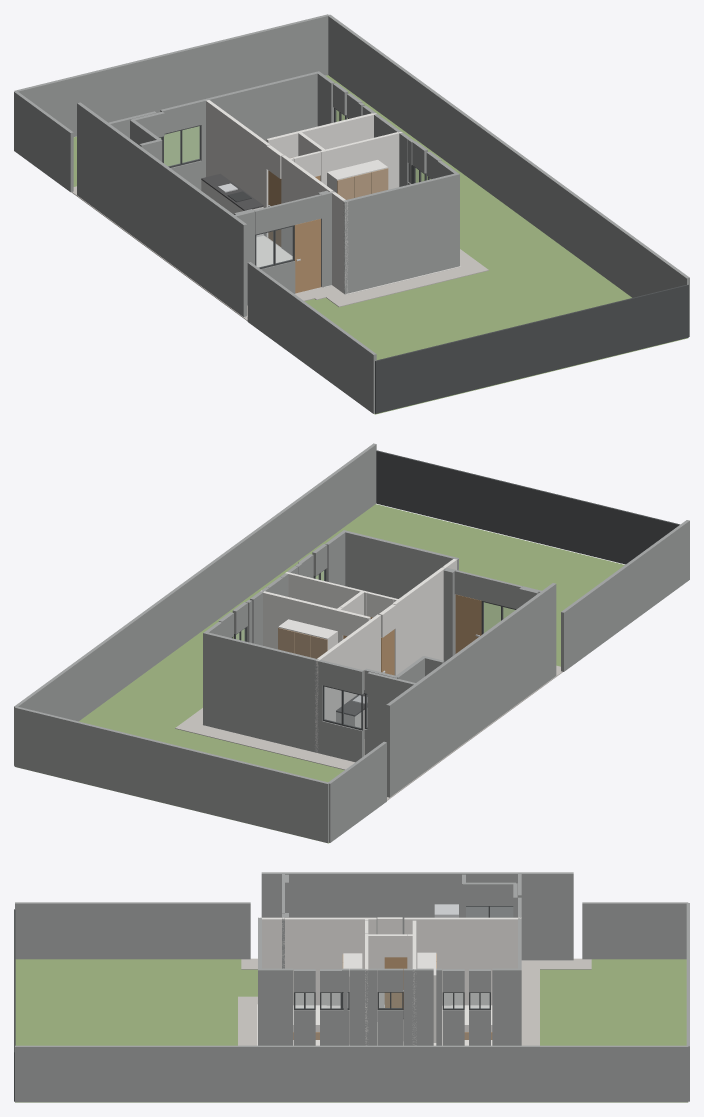
Rendered from casa.glb.
The picture shows the model from 3 angles, top to bottom: view 1: azimuth 30°, elevation 25°; view 2: azimuth 150°, elevation 25°; view 3: azimuth 270°, elevation 25°; orthographic projection. The views are drawn at different scales.
Visible parts, largest first — view 1: fachada, grama, esquadria, parede, concreto, vidro, door4_swing__porta, armario, madeira, piso, granito; view 2: fachada, grama, esquadria, parede, concreto, vidro, door4_swing__porta, madeira, armario; view 3: fachada, grama, parede, concreto, vidro, esquadria, armario, door0_swing__porta, enxoval.
Part boxes in pixels (box(x1,y1,x2,y2)): fachada: box(14, 14, 689, 413); grama: box(73, 75, 687, 414); esquadria: box(159, 108, 688, 413); parede: box(206, 100, 402, 293); concreto: box(71, 186, 488, 320); vidro: box(160, 109, 429, 267); door4_swing__porta: box(294, 219, 320, 293); armario: box(201, 160, 387, 237); madeira: box(337, 168, 388, 199); piso: box(245, 235, 461, 317); granito: box(201, 173, 263, 210); fachada: box(14, 443, 689, 842); grama: box(22, 504, 624, 843); esquadria: box(232, 450, 679, 730); parede: box(260, 558, 458, 752); concreto: box(175, 665, 562, 800); vidro: box(236, 570, 514, 728); door4_swing__porta: box(455, 594, 481, 653); madeira: box(278, 627, 327, 658); armario: box(278, 619, 367, 738); fachada: box(15, 872, 689, 1102); grama: box(15, 959, 687, 1102); parede: box(259, 917, 521, 1045); concreto: box(238, 958, 591, 1045); vidro: box(295, 907, 512, 1008); esquadria: box(14, 906, 513, 1101); armario: box(343, 952, 436, 1044); door0_swing__porta: box(385, 957, 407, 1008); enxoval: box(293, 1005, 492, 1031).
Bounding box in the file's own units: 10.07 × 2.83 × 19.9.
